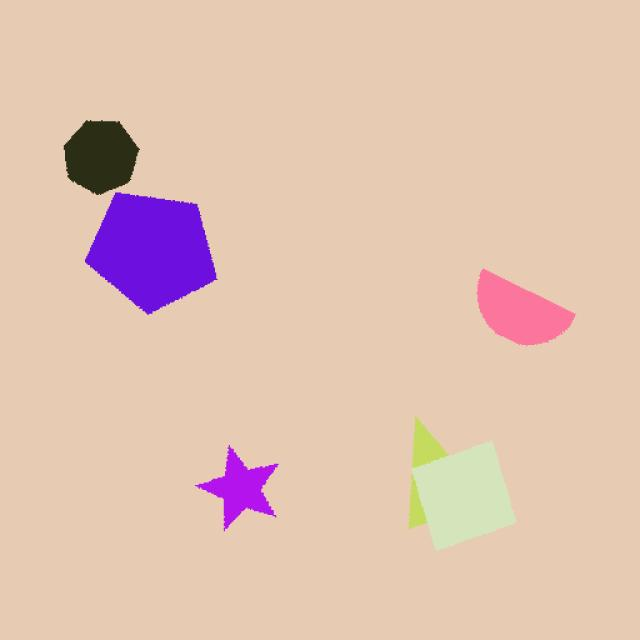Heptagon: (39, 105, 155, 202)
Pentagon: (78, 189, 225, 319)
Semicircle: (465, 262, 575, 362)
Star: (188, 447, 292, 531)
Triangle: (390, 406, 485, 544)
square: (414, 439, 517, 555)
